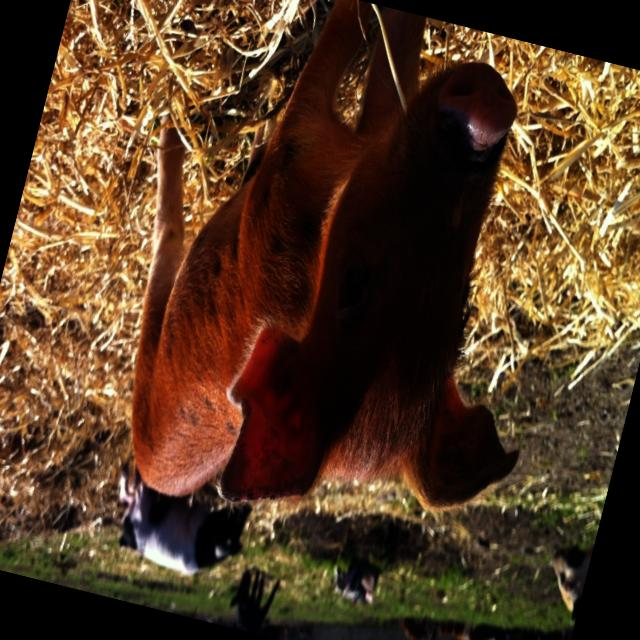pig: (129, 0, 520, 510), (119, 482, 251, 574), (551, 546, 593, 626), (231, 570, 279, 635)
